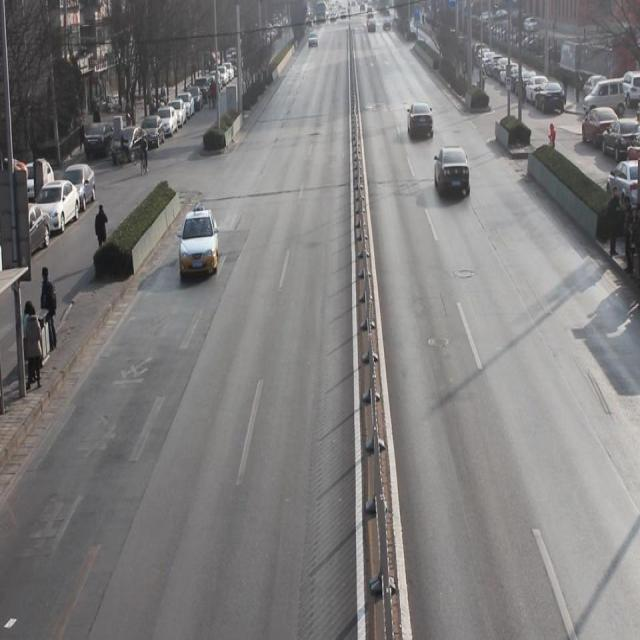car: (181, 205, 220, 281), (434, 150, 472, 202), (407, 101, 433, 141)
